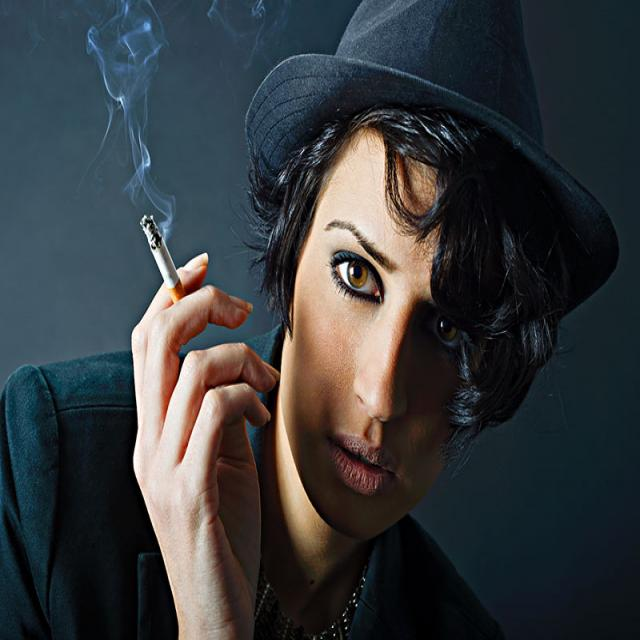smoking: (144, 209, 184, 312)
